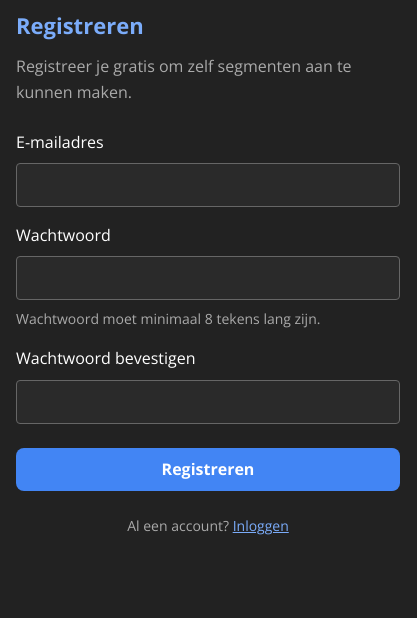
Test: SignupForm.tsx › Error flow › form renders error when passwords do not match
Step 1. Type "a@a.nl" into the field labelled "E-mailadres" → (208, 185), box [16,163,400,207]
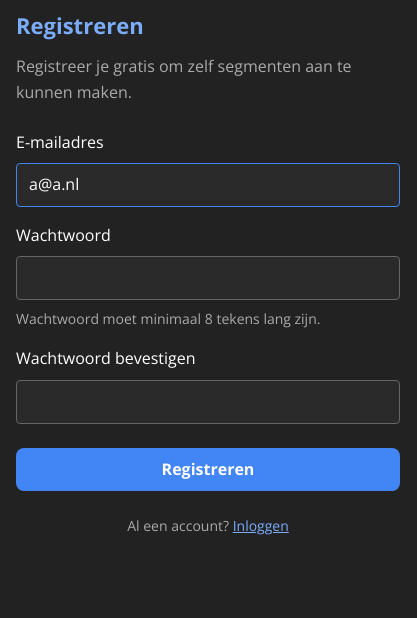
Step 2. Type "password123" into the password field labelled "Wachtwoord" → (208, 278), box [16,256,400,300]
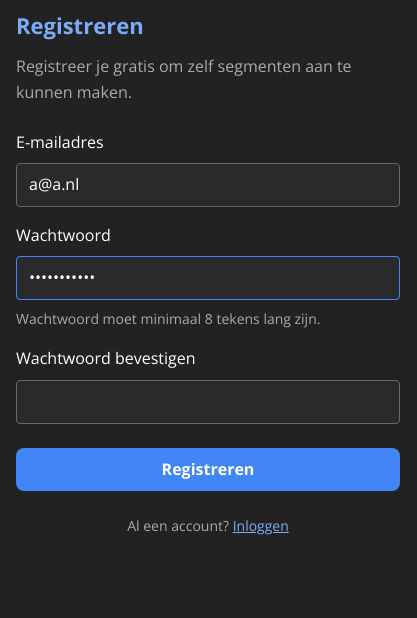
Step 3. Type "not-password123" into the password field labelled "Wachtwoord bevestigen" → (208, 402), box [16,380,400,424]
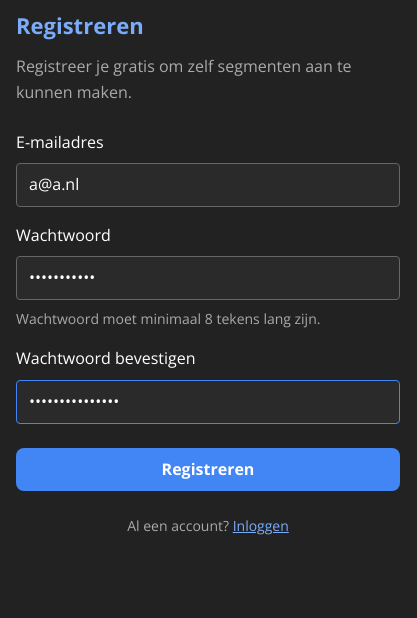
Step 4. Submit the form
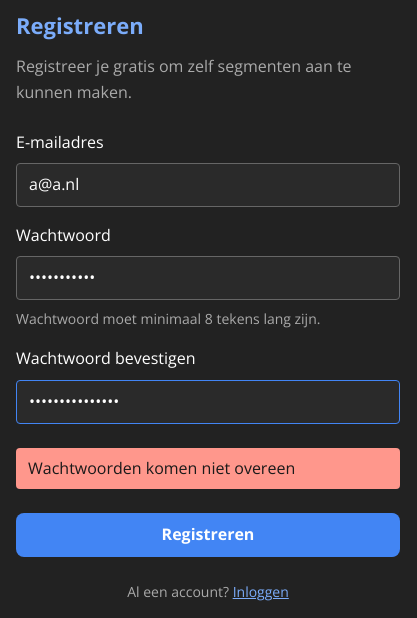
Expected: the text "Wachtwoorden komen niet overeen" is shown, [16,448,400,489]
